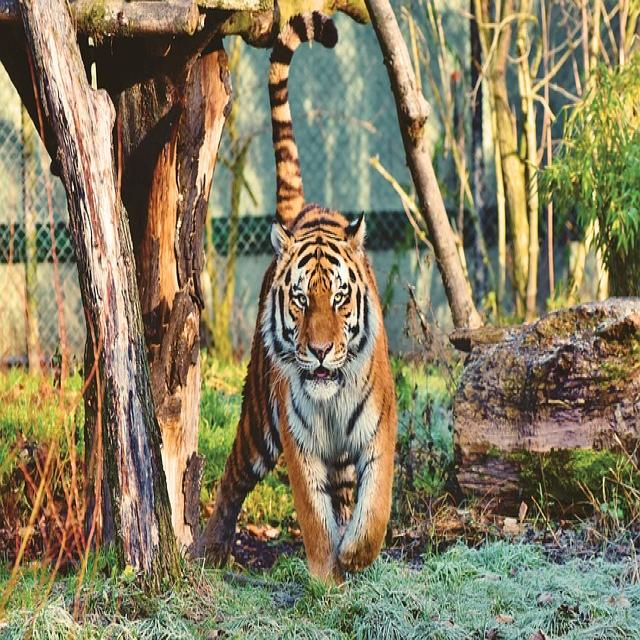Carnivorous: (187, 195, 399, 591)
